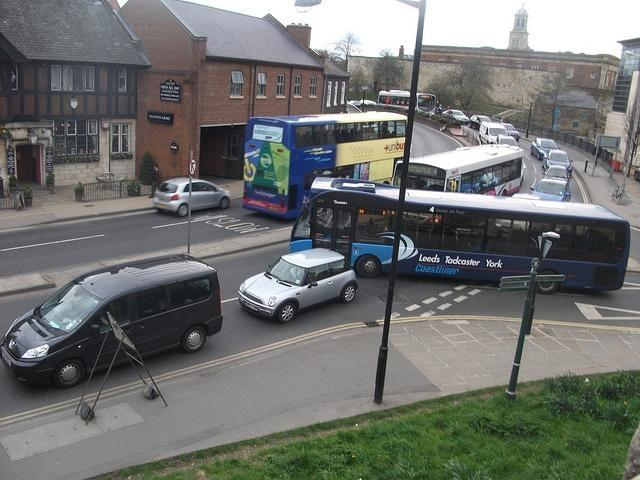bus: (287, 176, 628, 292), (242, 110, 411, 216), (389, 144, 523, 200), (378, 90, 436, 115)
car: (0, 252, 223, 388), (245, 250, 356, 319), (151, 176, 232, 215), (530, 178, 571, 202), (542, 148, 572, 178), (529, 137, 560, 162), (542, 165, 570, 183), (442, 110, 470, 125), (501, 122, 522, 141), (498, 134, 519, 147)
truck: (0, 252, 225, 388), (478, 120, 508, 145)
